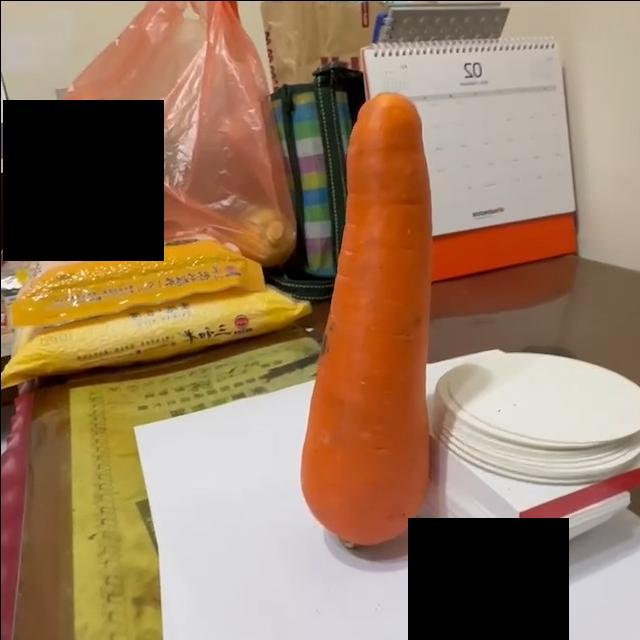carrot: (298, 95, 433, 549)
